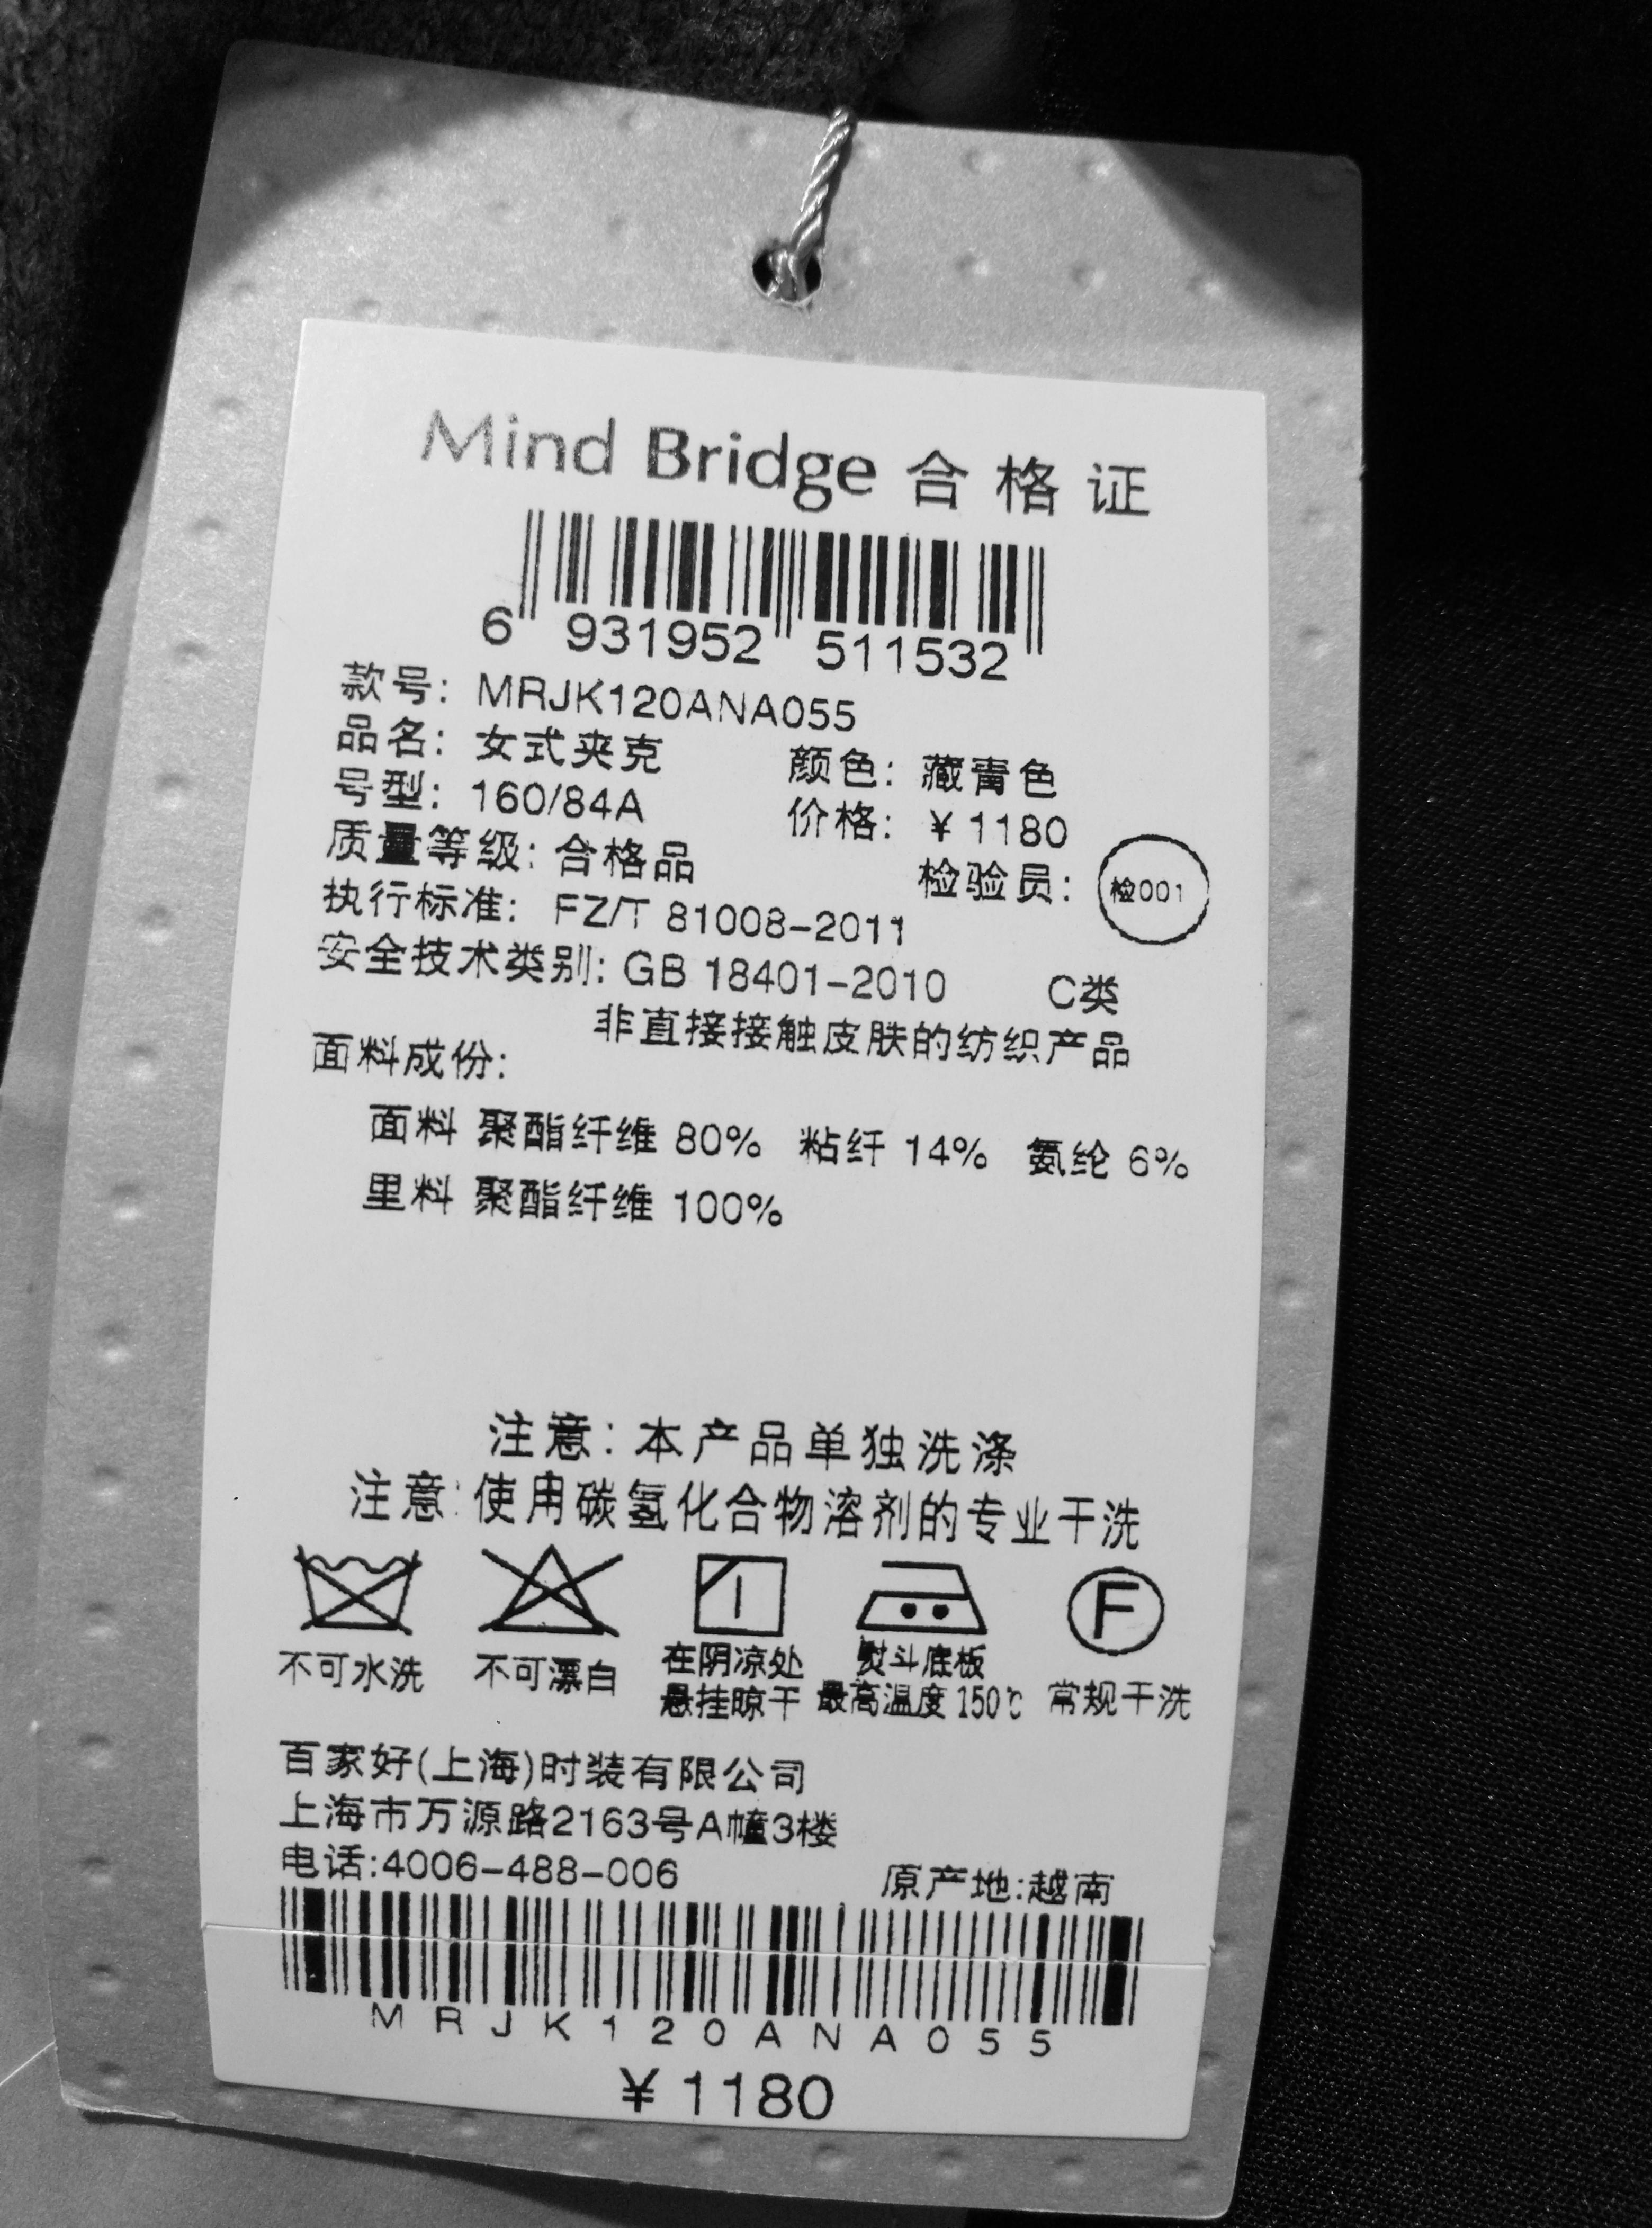Barcode: (265, 1838, 1161, 2091), (477, 498, 1088, 691)
